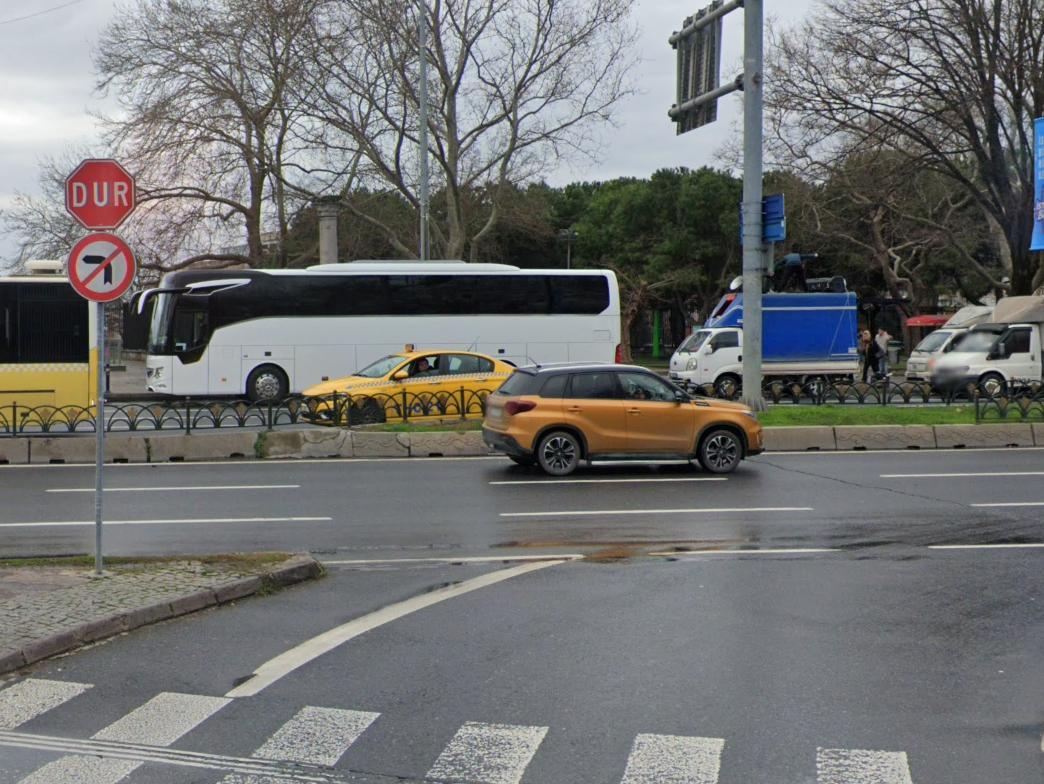leftturnsareforbidden: (67, 235, 138, 299)
stop: (66, 159, 135, 232)
